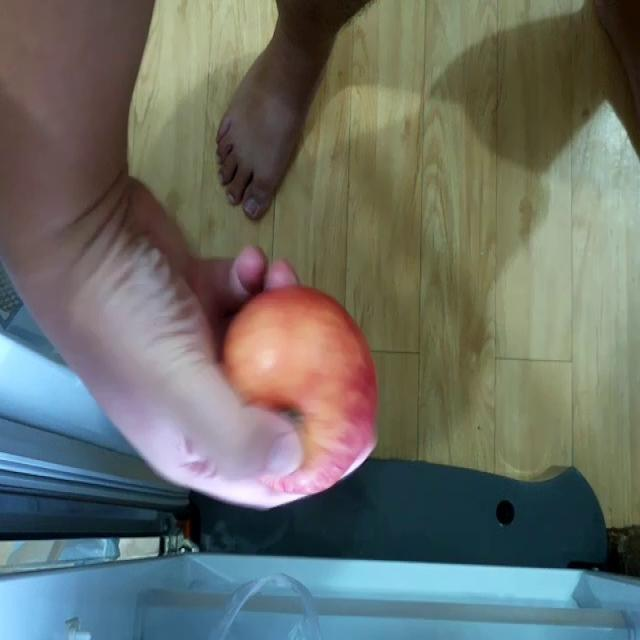apple: (220, 292, 376, 502)
